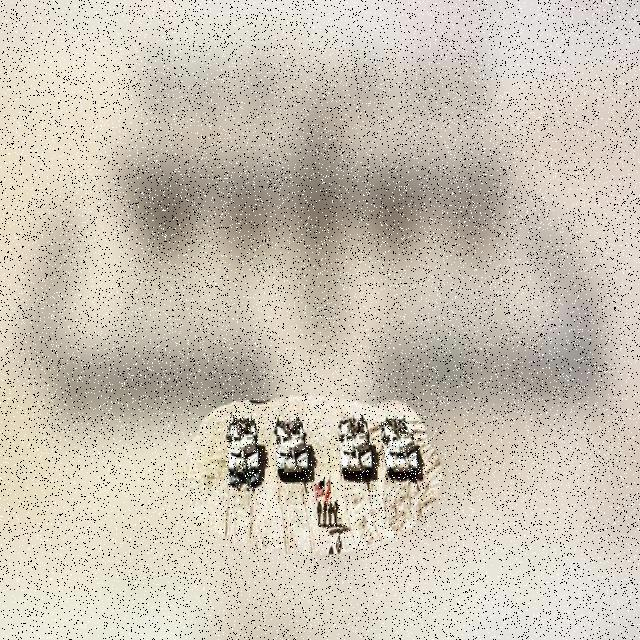MIL_MBT: (226, 412, 261, 490), (379, 414, 420, 479), (271, 417, 309, 482), (337, 415, 372, 477)
